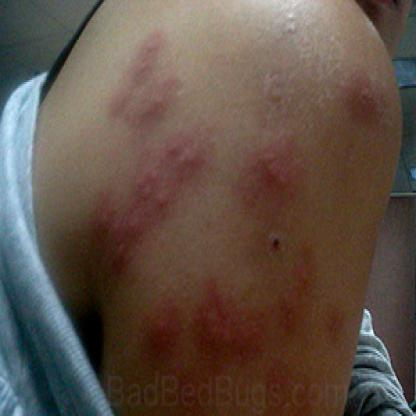Bed Bug: (82, 134, 218, 271), (100, 27, 180, 128), (226, 138, 319, 222), (276, 235, 345, 338), (187, 286, 266, 364), (138, 298, 184, 374), (345, 63, 384, 128), (258, 370, 315, 414), (159, 380, 222, 412), (255, 67, 291, 105)
